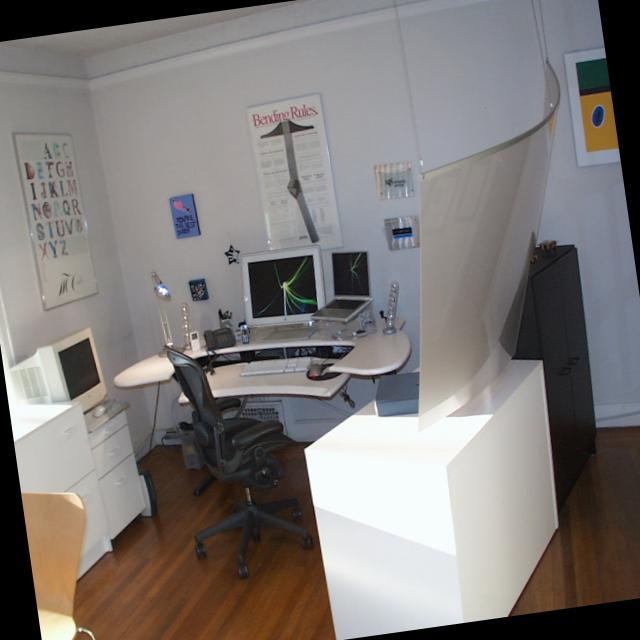binder: (377, 370, 419, 413)
cabinet door: (308, 360, 557, 638)
ceiling beam: (3, 0, 307, 59)
cell: (240, 325, 249, 345)
chair -occluded-: (170, 356, 315, 577), (23, 493, 96, 640)
cup and saucer: (220, 318, 234, 334)
decorative object: (385, 279, 399, 331), (182, 301, 192, 348), (224, 246, 240, 269)
desk calendar: (113, 314, 410, 405)
filing cabinet: (521, 243, 597, 523), (9, 401, 111, 608)
floor -X: (74, 443, 336, 640), (510, 428, 640, 617)
ipod: (189, 331, 201, 354)
keyboard crop: (241, 358, 315, 375)
lamp crop: (152, 272, 183, 352)
laptop computer: (315, 250, 373, 323)
markers: (373, 163, 413, 201), (383, 216, 419, 252)
monitor crop: (10, 325, 107, 409), (242, 248, 323, 324)
mouse: (305, 362, 342, 380)
mouse pad: (310, 361, 320, 377), (96, 403, 106, 416)
painting crop: (563, 47, 618, 167)
pens: (217, 309, 232, 316)
picture crop: (169, 195, 200, 238), (188, 277, 210, 302)
poster crop: (415, 58, 560, 430), (246, 94, 344, 255), (13, 133, 98, 310)
table -X: (83, 395, 151, 537)
telephone booth: (205, 324, 237, 353)
wall clock: (84, 0, 640, 444), (0, 46, 158, 569)
